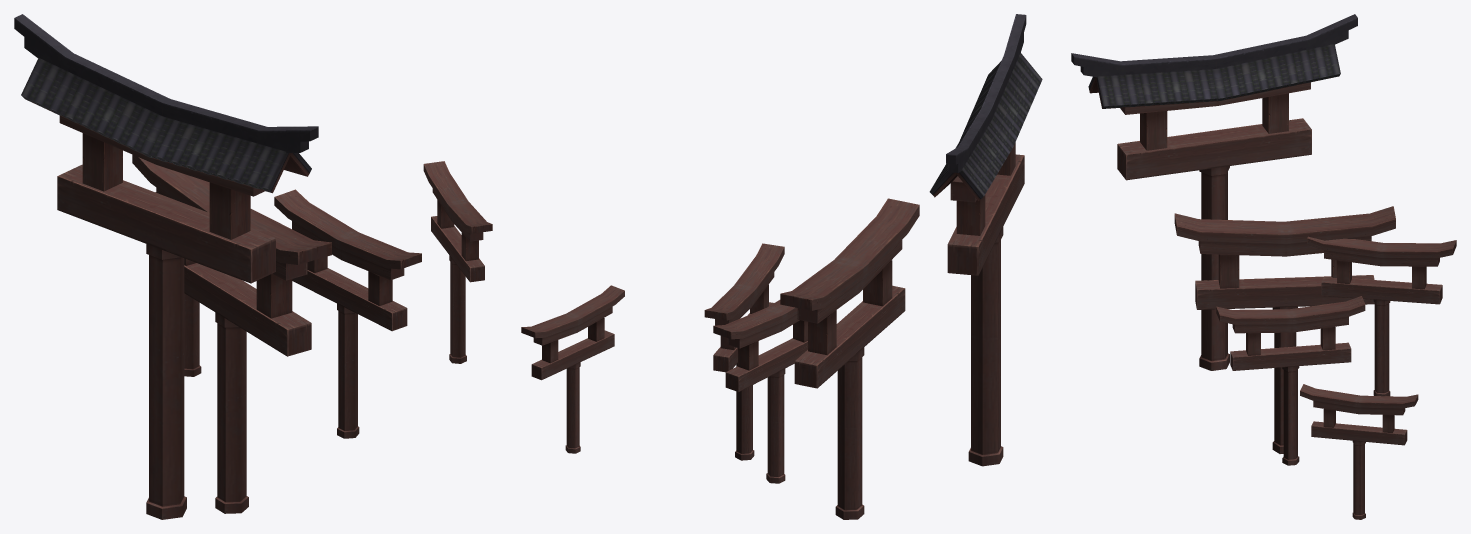
The model's file is Area_04_19.fbx.
3 renders of one model, left to right at view 1: azimuth 30°, elevation 25°; view 2: azimuth 150°, elevation 25°; view 3: azimuth 270°, elevation 25°, orthographic. The views are drawn at different scales.
Parts seen in each view (by area): view 1: Area_04_19; view 2: Area_04_19; view 3: Area_04_19.
Part boxes in pixels (<box>): Area_04_19: <box>14,14,492,519</box>; Area_04_19: <box>521,14,1042,519</box>; Area_04_19: <box>1071,14,1456,519</box>.
Bounding box in the file's own units: 3790 × 3728 × 3490.
